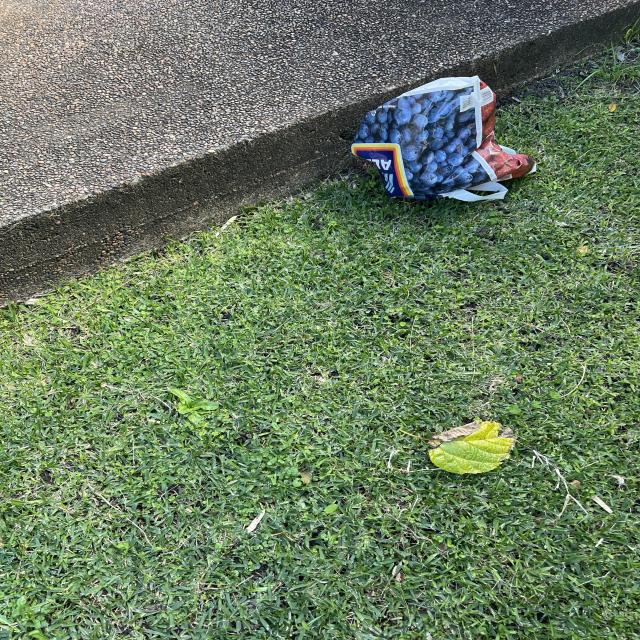bag: (346, 76, 532, 204)
